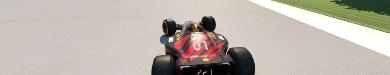Car: (150, 16, 255, 74)
Solid White and black: (243, 0, 389, 74)
